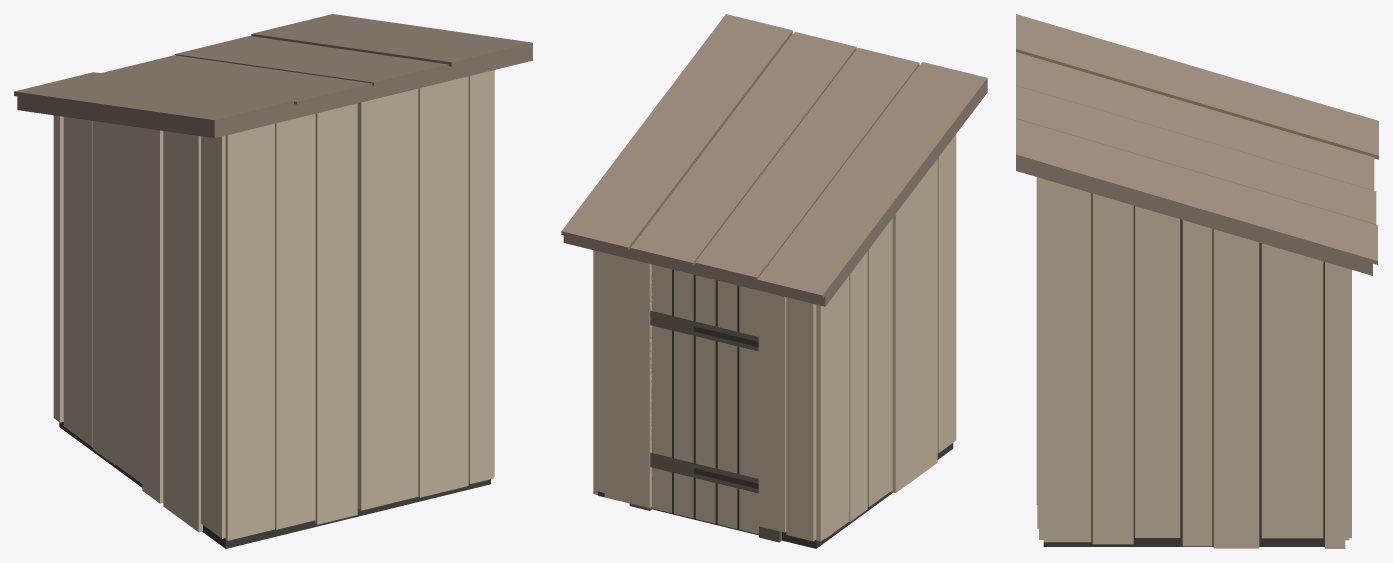
The model's file is recon_1835_blk_randolph_clinton_a3_07__inferred_1835.glb.
3 views of the same model, side by side, from view 1: azimuth 30°, elevation 25°; view 2: azimuth 150°, elevation 25°; view 3: azimuth 270°, elevation 25° (orthographic). The views are drawn at different scales.
Visible parts, largest first — view 1: recon_1835_blk_randolph_clinton_a3_07__inferred_1835; view 2: recon_1835_blk_randolph_clinton_a3_07__inferred_1835; view 3: recon_1835_blk_randolph_clinton_a3_07__inferred_1835.
Boxes of the visible parts, x1=… form: recon_1835_blk_randolph_clinton_a3_07__inferred_1835: x1=14, y1=14, x2=532, y2=548; recon_1835_blk_randolph_clinton_a3_07__inferred_1835: x1=561, y1=14, x2=987, y2=548; recon_1835_blk_randolph_clinton_a3_07__inferred_1835: x1=1016, y1=14, x2=1378, y2=548.
Bounding box in the file's own units: 2.06 × 2.77 × 2.25.
